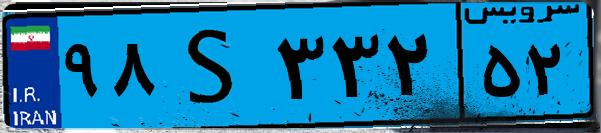2: (385, 28, 445, 110), (525, 38, 570, 115)
3: (270, 28, 330, 110), (330, 28, 385, 110)
5: (475, 38, 525, 113)
8: (110, 28, 158, 98)
9: (57, 26, 110, 100)
S: (158, 12, 270, 120)
